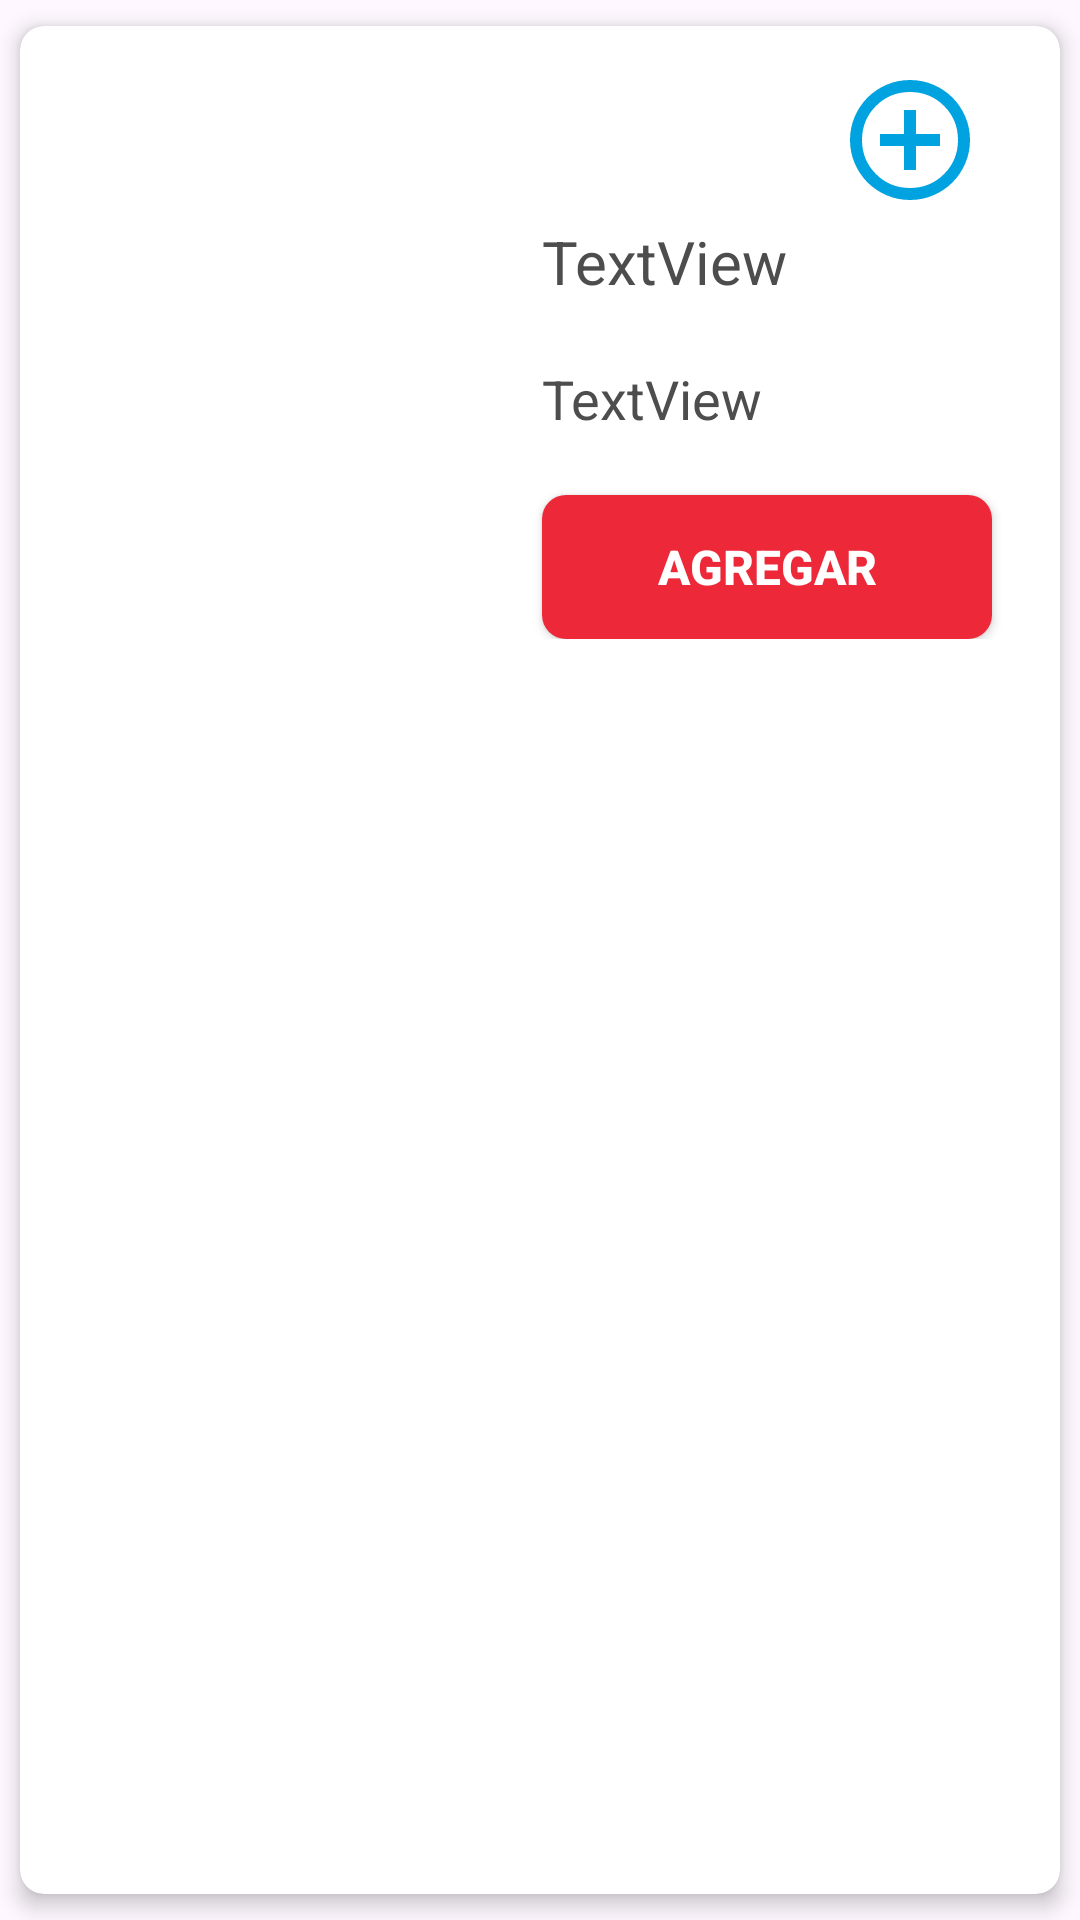

Icons on this 1080*1920 Android screen, each with its box as (x1, y1, x2, y2):
iconoagregar: (850, 80, 970, 200)
